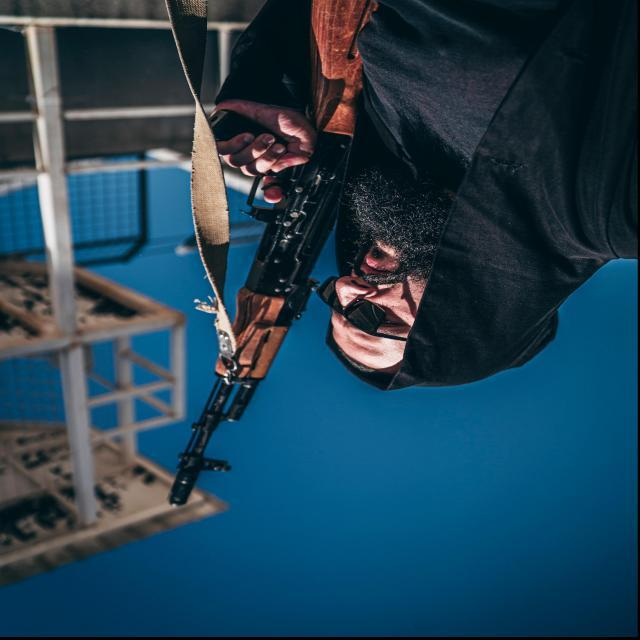weapon: (166, 0, 386, 508)
